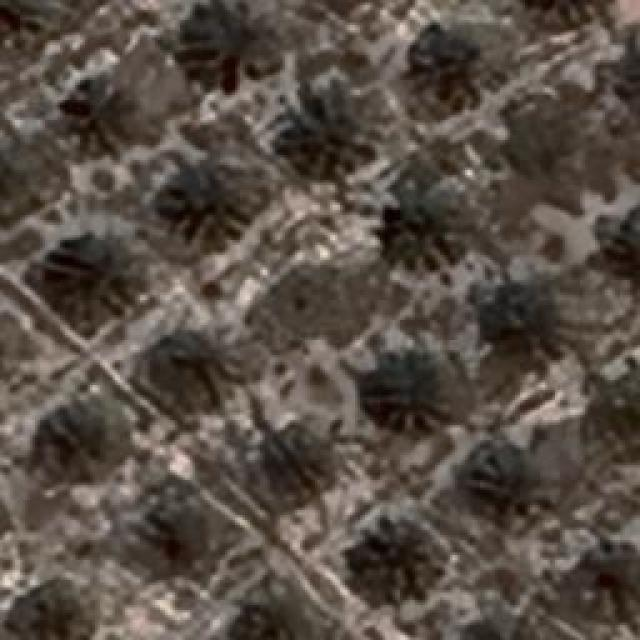PalmTree: (23, 24, 271, 610), (160, 142, 262, 248), (28, 386, 136, 486), (275, 78, 380, 178), (136, 328, 244, 420), (238, 414, 338, 508), (408, 20, 510, 108), (350, 515, 448, 603), (180, 0, 280, 85), (45, 238, 145, 320), (470, 266, 565, 352), (367, 338, 455, 430), (378, 182, 468, 270), (125, 476, 213, 566), (67, 72, 155, 158), (5, 574, 93, 638), (478, 448, 552, 518), (575, 534, 640, 612), (0, 125, 49, 222), (592, 23, 640, 108), (592, 362, 640, 446), (600, 207, 640, 285), (451, 611, 542, 640), (515, 0, 614, 24), (514, 0, 612, 16)
